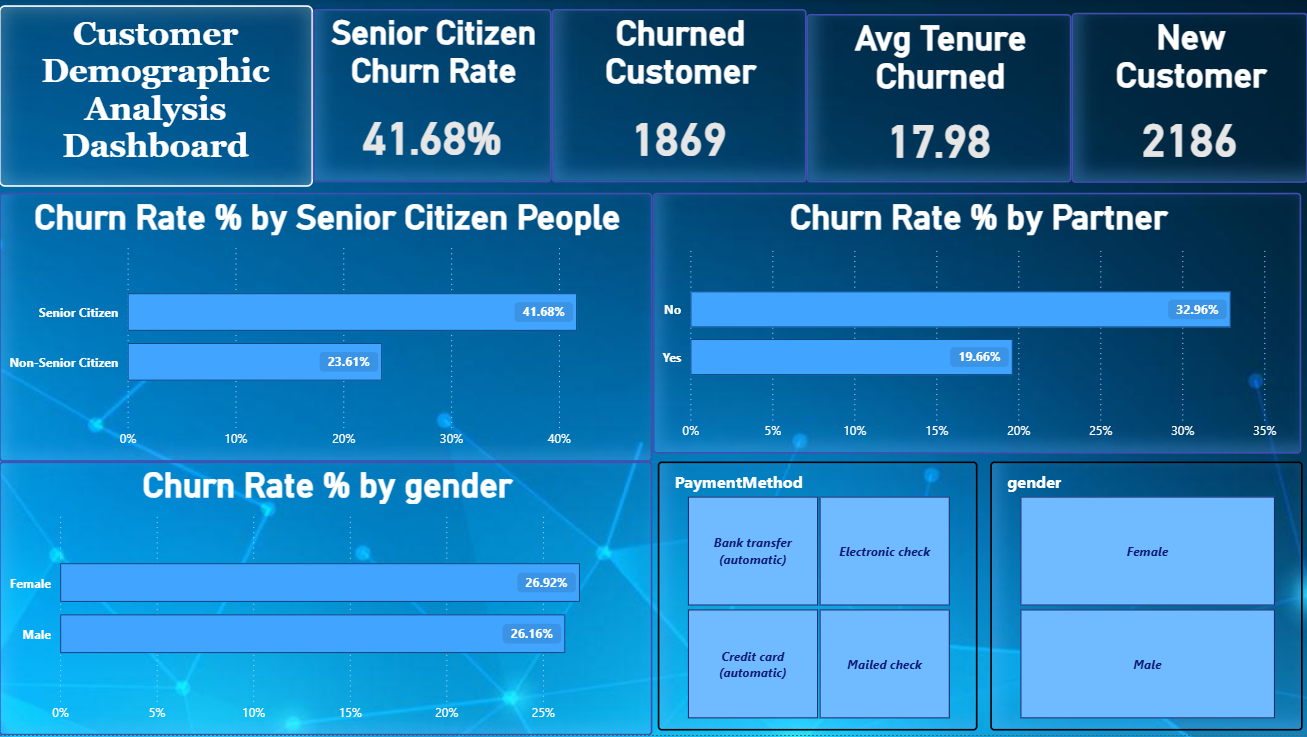

The dashboard page shown, as its layout file describes it:
{"tool":"powerbi","page":{"name":"Page 2","canvas":[1280,720],"ordinal":1},"visuals":[{"type":"card","title":"Churned Customer","fields":{"Values":["Tele communication Dataset.Churned Customers"]},"box":[540.5,9.8,249.5,170],"z":0},{"type":"textbox","box":[0,6.1,306.9,177.3],"z":1000},{"type":"card","title":"Avg Tenure Churned","fields":{"Values":["Tele communication Dataset.Avg Tenure Churned"]},"box":[789.9,14.7,259.2,165.1],"z":2000},{"type":"card","title":"Senior Citizen Churn Rate","fields":{"Values":["Tele communication Dataset.Senior Citizen Churn Rate"]},"box":[306.9,9.8,233.6,170],"z":3000},{"type":"card","title":"New Customer","fields":{"Values":["Tele communication Dataset.New Customers"]},"box":[1049.2,13.5,231.1,166.3],"z":4000},{"type":"clusteredBarChart","fields":{"Y":["Tele communication Dataset.Churn Rate %"],"Category":["Tele communication Dataset.gender"]},"box":[0,452.4,639.5,267.8],"z":5000},{"type":"clusteredBarChart","fields":{"Y":["Tele communication Dataset.Churn Rate %"],"Category":["Tele communication Dataset.Senior Citizen People"]},"box":[0,189.5,639.5,262.9],"z":6000},{"type":"clusteredBarChart","fields":{"Y":["Tele communication Dataset.Churn Rate %"],"Category":["Tele communication Dataset.Partner"]},"box":[639.5,189.5,634.7,255.6],"z":7000},{"type":"slicer","fields":{"Values":["Tele communication Dataset.PaymentMethod"]},"box":[644.4,452.4,313,262.9],"z":7001},{"type":"slicer","fields":{"Values":["Tele communication Dataset.gender"]},"box":[969.7,452.4,305.7,262.9],"z":7002}]}

Visuals, with their boxes in screenshot pixels (x1, y1, x2, y2), scaled from the page's 1280x720 canvas onto the 1307x737 screenshot:
"Churned Customer" card: detection(552, 10, 807, 184)
textbox: detection(0, 6, 313, 188)
"Avg Tenure Churned" card: detection(807, 15, 1071, 184)
"Senior Citizen Churn Rate" card: detection(313, 10, 552, 184)
"New Customer" card: detection(1071, 14, 1306, 184)
clusteredBarChart - Tele communication Dataset.Churn Rate % x Tele communication Dataset.gender: detection(0, 463, 653, 736)
clusteredBarChart - Tele communication Dataset.Churn Rate % x Tele communication Dataset.Senior Citizen People: detection(0, 194, 653, 463)
clusteredBarChart - Tele communication Dataset.Churn Rate % x Tele communication Dataset.Partner: detection(653, 194, 1301, 456)
slicer - Tele communication Dataset.PaymentMethod: detection(658, 463, 978, 732)
slicer - Tele communication Dataset.gender: detection(990, 463, 1302, 732)
